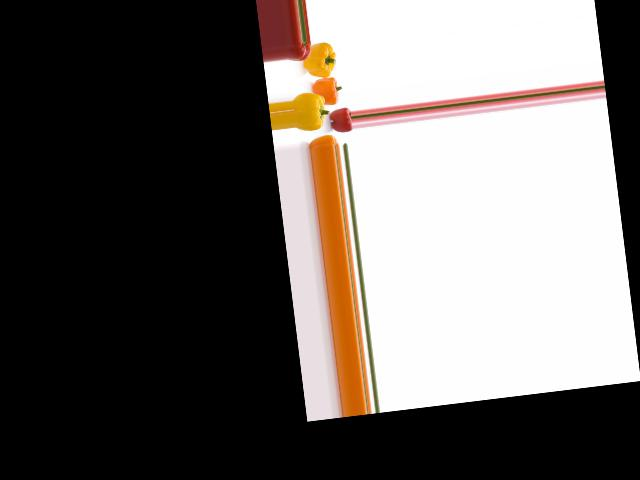bell_pepper: (307, 131, 340, 150)
